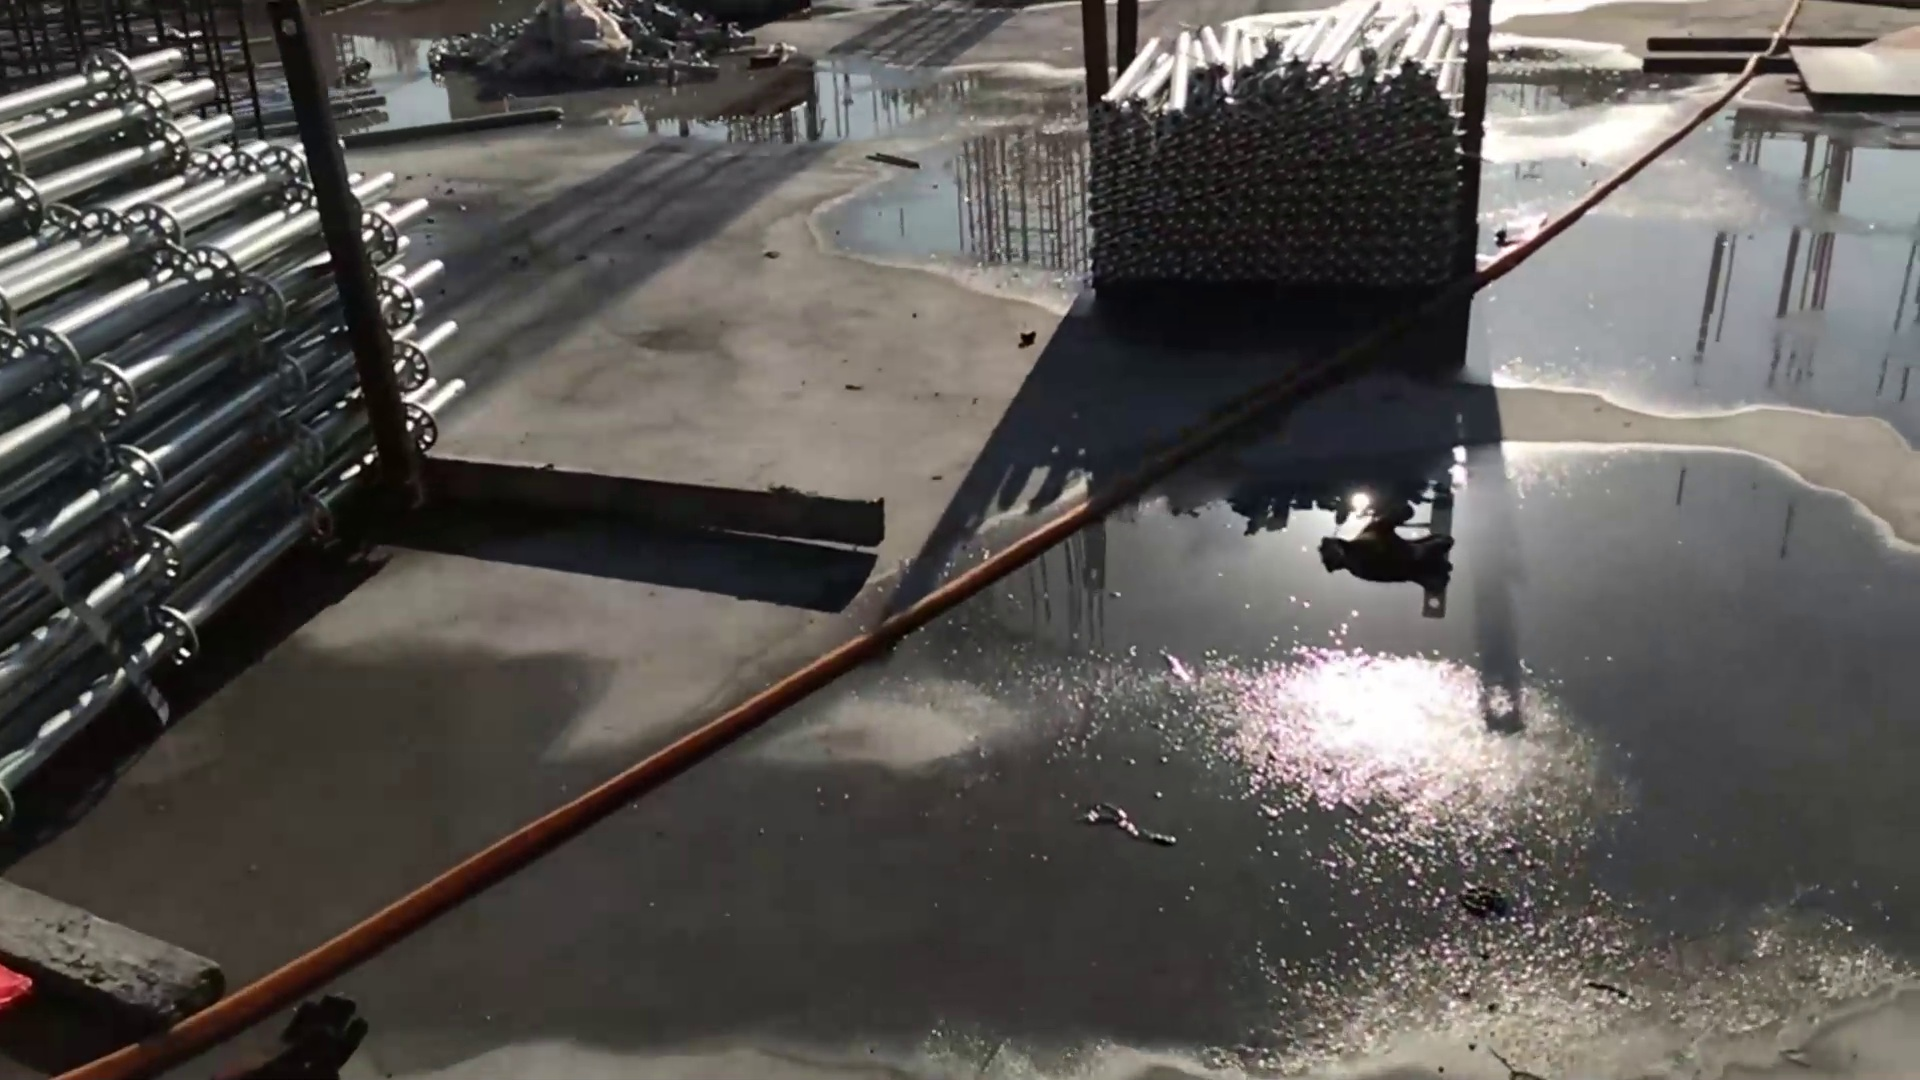scaffold: (4, 36, 465, 843), (1092, 1, 1477, 307)
